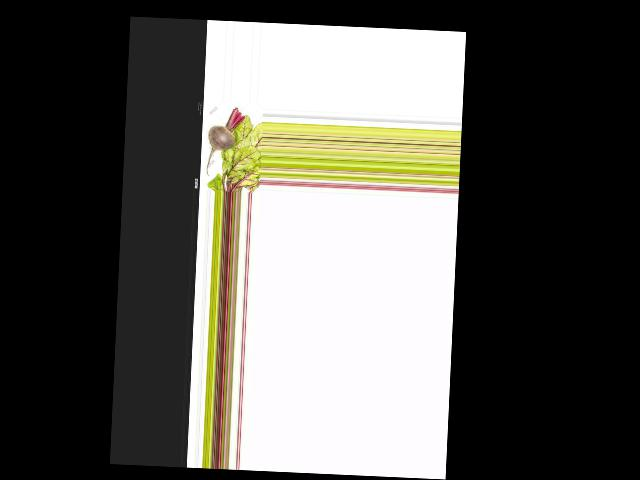beet: (205, 106, 245, 177)
